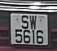1: (31, 29, 37, 46)
5: (14, 29, 24, 46)
6: (22, 29, 32, 45), (36, 29, 45, 46)
S: (21, 14, 30, 31)
W: (29, 15, 38, 31)
